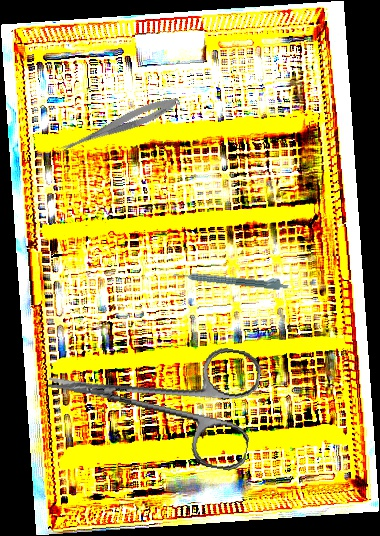Handpiece: (172, 265, 290, 292)
Iris Scissors: (39, 318, 264, 474)
Micro Scissor: (55, 91, 183, 161)
